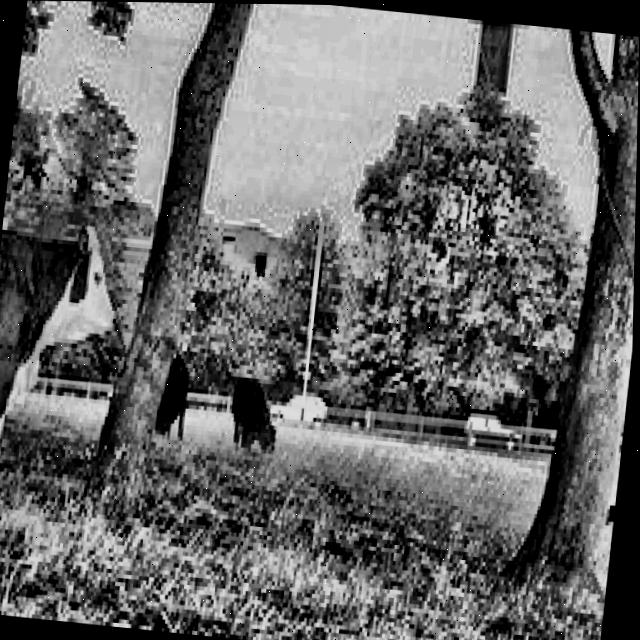light_vehicle: (463, 402, 527, 453), (274, 384, 328, 425)
